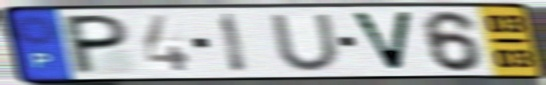4: (143, 13, 193, 75)
6: (420, 8, 488, 74)
I: (217, 11, 252, 76)
P: (65, 12, 132, 77)
U: (266, 12, 345, 73)
V: (346, 10, 417, 74)
